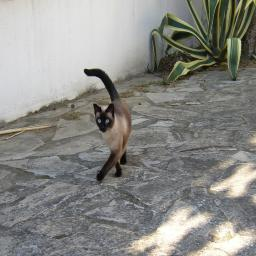catnose: (99, 123, 106, 130)
